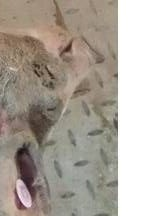text: (9, 169, 43, 216)
